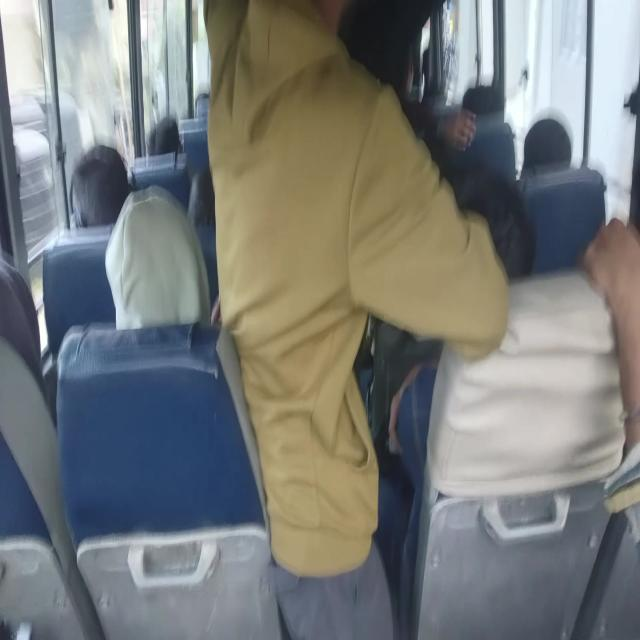person: (205, 0, 403, 601), (111, 203, 207, 338), (604, 106, 640, 413), (335, 0, 411, 91), (463, 186, 526, 286), (510, 114, 580, 196), (71, 152, 131, 231), (0, 274, 40, 387), (181, 167, 226, 234), (461, 79, 502, 137), (148, 115, 180, 155)
